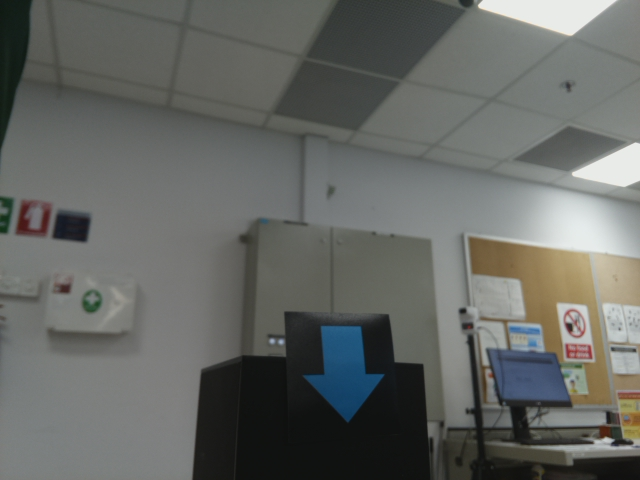down: (301, 314, 391, 428)
